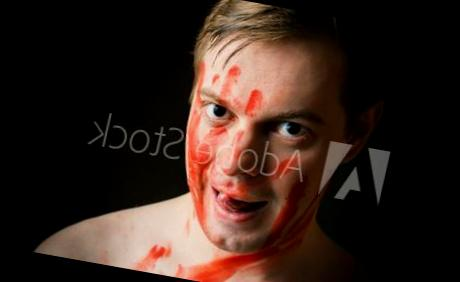Fire: (159, 43, 322, 282), (130, 237, 180, 272)
